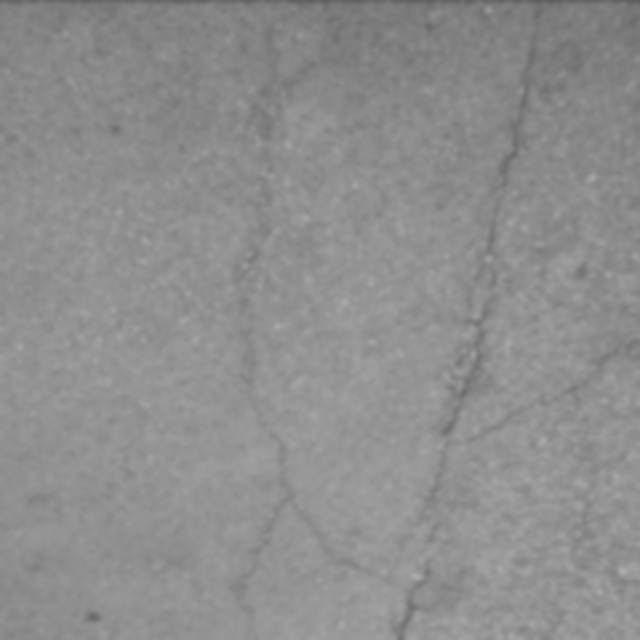SurfaceCrack: (285, 0, 619, 639)
